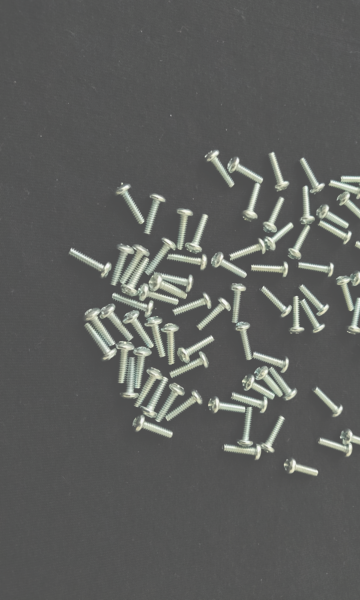shortscrew: (83, 323, 118, 363), (68, 248, 113, 279), (82, 308, 116, 348), (114, 183, 145, 225), (165, 389, 204, 422), (196, 297, 232, 332), (100, 304, 134, 341), (123, 310, 155, 349), (139, 376, 168, 419), (120, 243, 150, 284), (134, 367, 163, 409), (203, 150, 235, 188), (155, 383, 185, 423), (145, 238, 176, 276), (176, 334, 216, 363), (259, 285, 293, 319), (121, 256, 149, 297), (109, 243, 135, 286), (169, 352, 210, 379), (311, 385, 344, 418), (142, 193, 167, 236), (112, 293, 155, 318), (131, 414, 174, 439), (172, 291, 213, 317), (210, 251, 248, 279), (299, 156, 326, 195), (259, 416, 286, 455), (227, 156, 264, 184), (185, 213, 210, 254), (299, 284, 331, 316), (269, 367, 298, 402), (148, 274, 188, 299), (143, 316, 166, 358), (253, 366, 283, 398), (300, 299, 326, 335), (228, 238, 267, 262), (287, 224, 312, 261), (241, 374, 275, 401), (315, 204, 350, 230), (153, 272, 196, 293), (263, 223, 294, 252), (268, 152, 290, 192), (115, 341, 135, 385), (230, 391, 268, 414), (262, 197, 286, 233), (120, 357, 140, 400), (241, 184, 263, 223), (133, 347, 152, 392), (252, 351, 290, 373), (236, 406, 255, 450), (161, 323, 180, 365), (319, 221, 353, 244), (233, 322, 253, 361), (167, 253, 208, 272), (228, 283, 247, 323), (334, 276, 355, 312), (176, 208, 194, 250), (316, 437, 353, 457), (336, 192, 360, 222), (283, 458, 319, 478), (287, 297, 305, 335), (250, 261, 288, 279), (208, 396, 246, 414), (299, 186, 316, 226), (222, 443, 262, 460), (328, 180, 360, 200), (297, 262, 335, 277), (345, 298, 360, 335), (340, 428, 360, 449), (342, 172, 360, 188), (350, 271, 360, 291), (355, 241, 360, 265), (358, 323, 360, 355)
